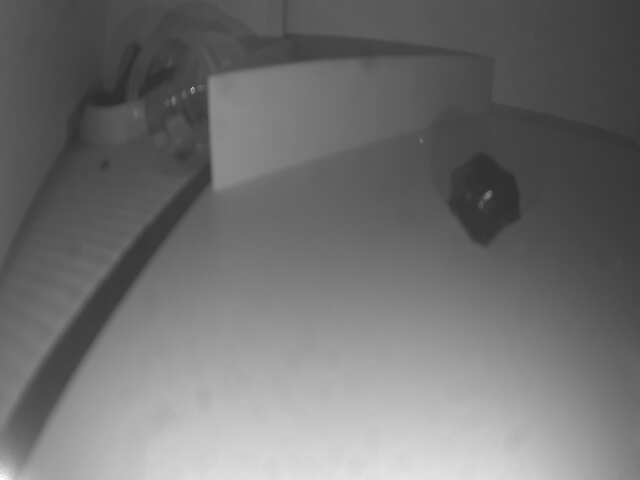Dead: (448, 144, 523, 243)
Point: (207, 53, 502, 192)
